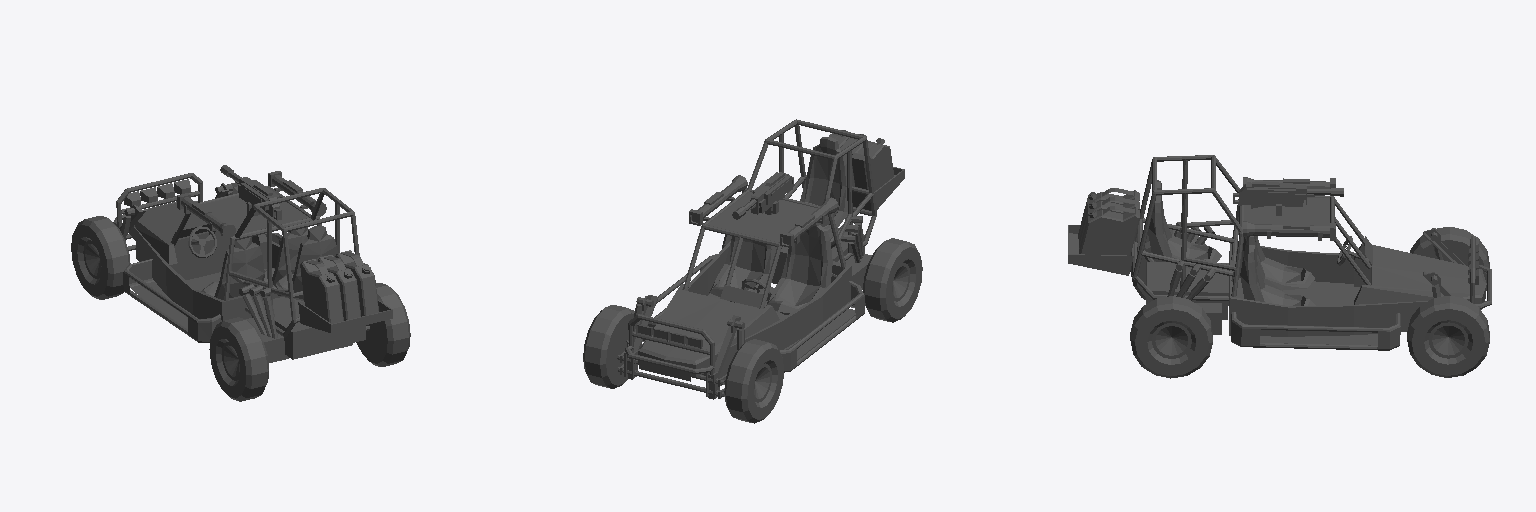
The model's file is buggy.obj.
3 renders of one model, left to right at view 1: azimuth 30°, elevation 25°; view 2: azimuth 150°, elevation 25°; view 3: azimuth 270°, elevation 25°, orthographic.
Parts seen in each view (by area): view 1: buggy_Mesh; view 2: buggy_Mesh; view 3: buggy_Mesh.
Boxes of the visible parts, x1,y1,x2,y2 form: buggy_Mesh: [71, 165, 410, 401]; buggy_Mesh: [583, 119, 922, 423]; buggy_Mesh: [1068, 155, 1491, 378].
Bounding box in the file's own units: 13.2 × 12.96 × 29.57.